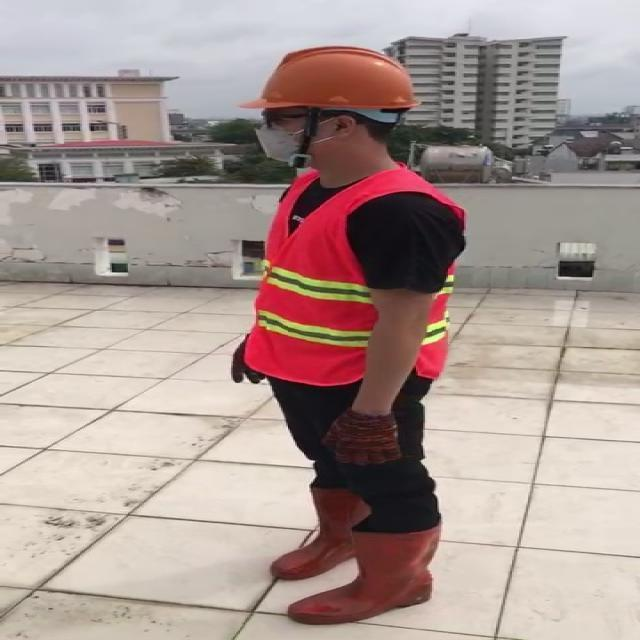gloves: (320, 406, 400, 466)
goggles: (259, 109, 351, 129)
helmet: (230, 42, 432, 117)
safety_vest: (245, 174, 456, 382)
